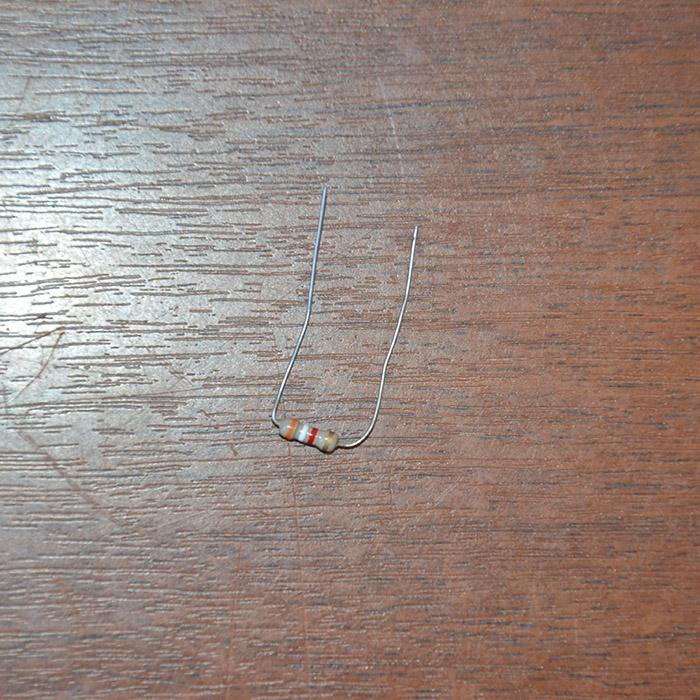resistor: (275, 415, 339, 453)
